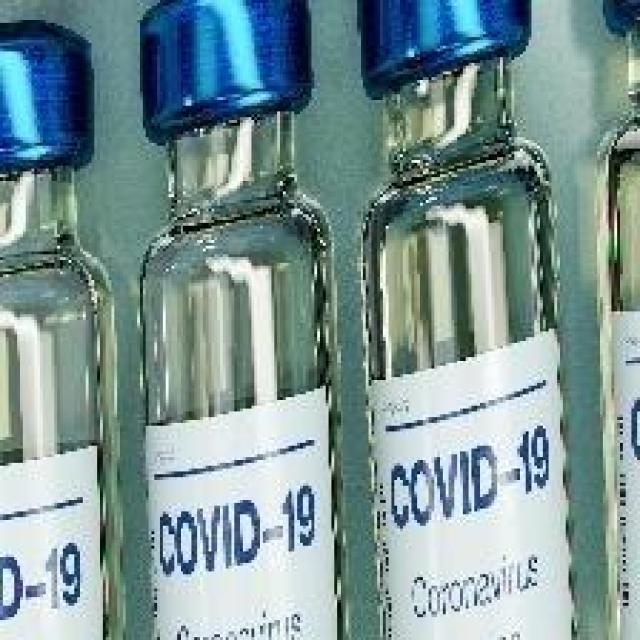syringe: (0, 7, 640, 634)
